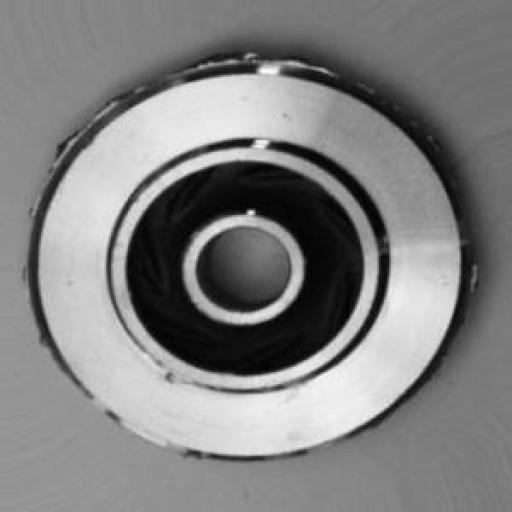defect: (28, 24, 500, 490)
